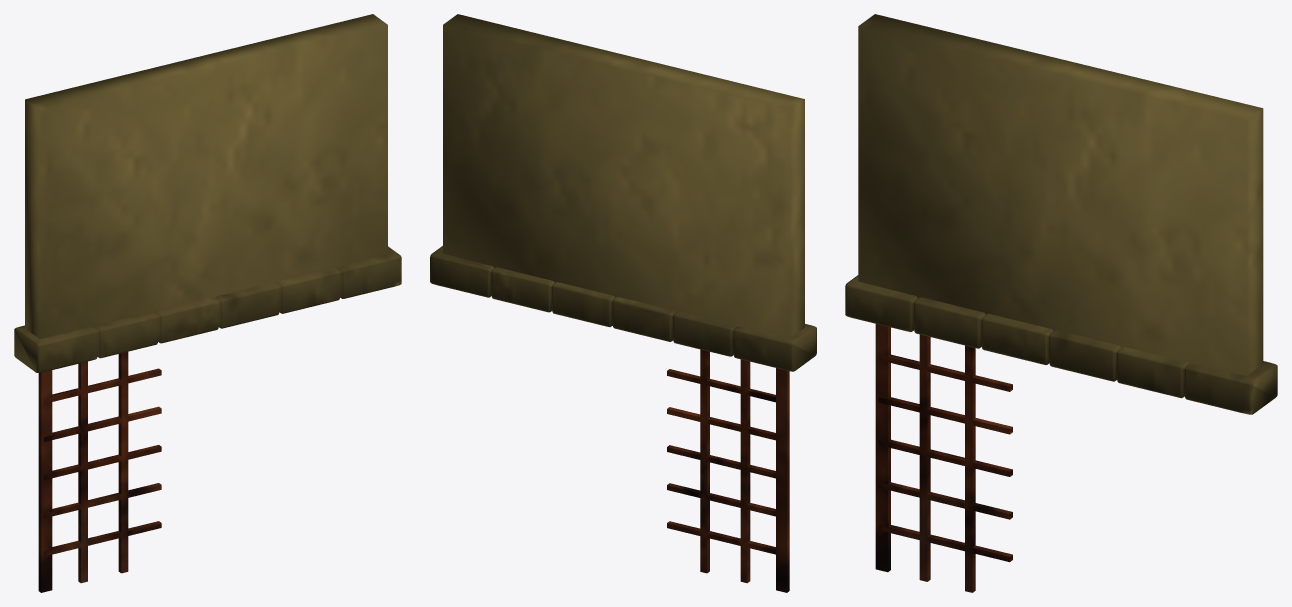
Rendered from Wall_7.fbx.
The picture shows the model from 3 angles, left to right: view 1: azimuth 30°, elevation 25°; view 2: azimuth 150°, elevation 25°; view 3: azimuth 330°, elevation 25°; orthographic projection. The views are drawn at different scales.
Parts seen in each view (by area): view 1: Wall_7; view 2: Wall_7; view 3: Wall_7.
Part boxes in pixels (x1,y1,x2,y2): Wall_7: (14, 14, 401, 592); Wall_7: (430, 14, 816, 592); Wall_7: (845, 14, 1277, 592).
Size of the model in its own units: 643 by 828 by 74.99.
2 materials, 2 textured.
